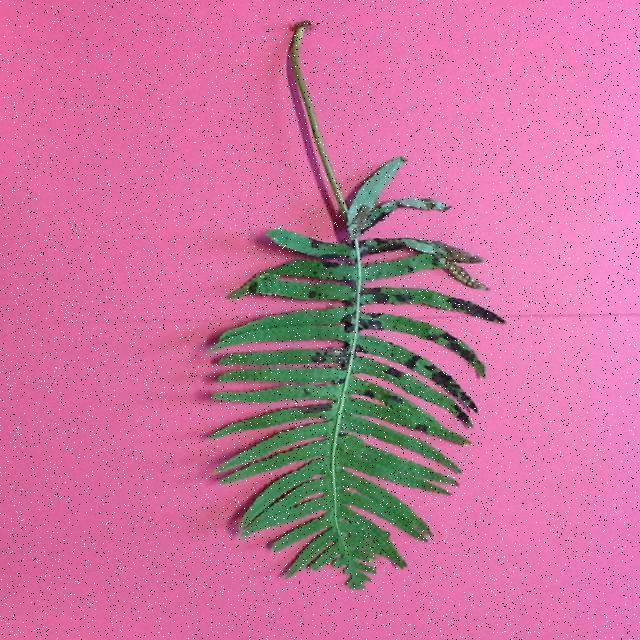foliage: (208, 23, 505, 593)
